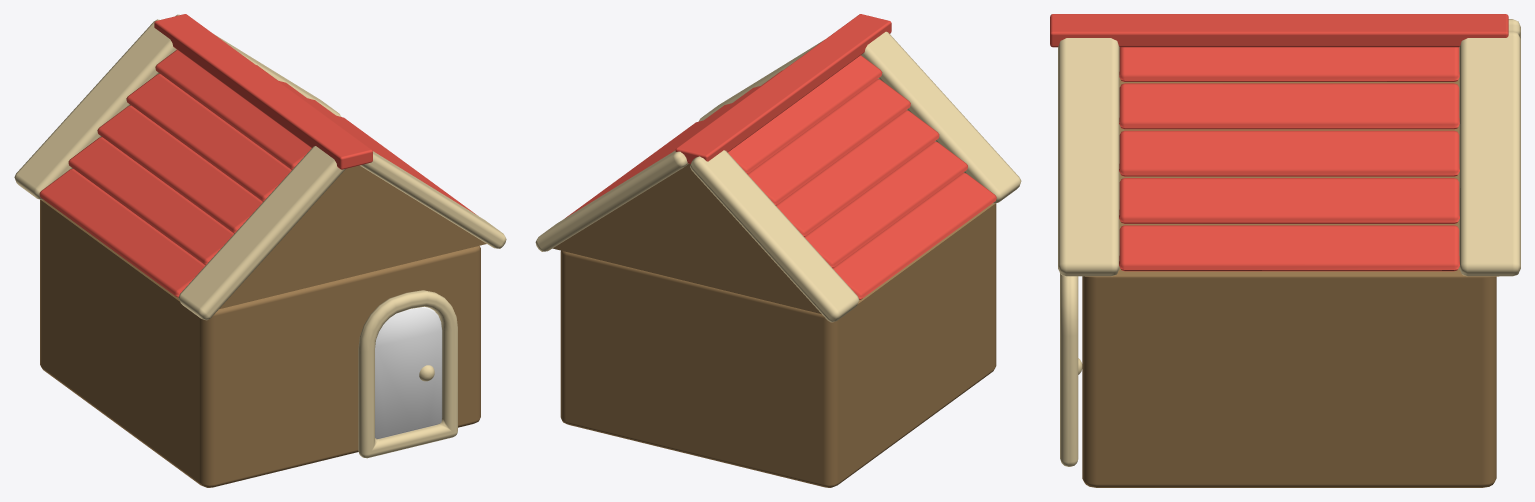
File: house.glb
3 renders of one model, left to right at view 1: azimuth 30°, elevation 25°; view 2: azimuth 150°, elevation 25°; view 3: azimuth 270°, elevation 25°, orthographic. The views are drawn at different scales.
Parts seen in each view (by area): view 1: Cube, Cube.002, Cube.001, Cube.004, Cube.003, Plane.001, Plane; view 2: Cube, Cube.002, Cube.001, Cube.004, Cube.003; view 3: Cube, Cube.002, Cube.001, Cube.003, Cube.004, Plane.
Boxes of the visible parts, x1,y1,x2,y2 form: Cube: (40, 199, 480, 487); Cube.002: (39, 50, 476, 297); Cube.001: (14, 14, 506, 320); Cube.004: (41, 73, 486, 309); Cube.003: (154, 14, 372, 169); Plane.001: (375, 306, 442, 438); Plane: (358, 290, 457, 458); Cube: (560, 203, 996, 487); Cube.002: (565, 55, 996, 299); Cube.001: (535, 31, 1021, 322); Cube.004: (552, 163, 994, 314); Cube.003: (675, 14, 891, 163); Cube: (1082, 276, 1496, 487); Cube.002: (1119, 47, 1459, 271); Cube.001: (1058, 19, 1520, 276); Cube.003: (1050, 14, 1508, 47); Cube.004: (1085, 78, 1498, 276); Plane: (1060, 273, 1078, 466).
Size of the model in its own units: 1.47 by 1.44 by 1.59.
